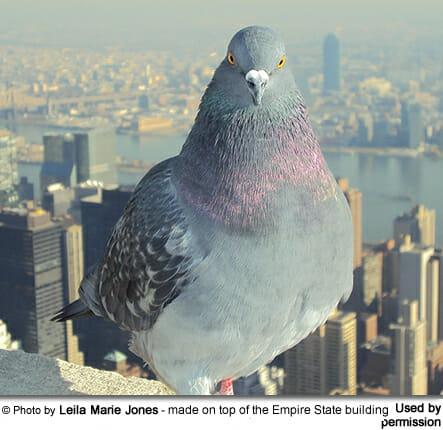Flying Rat: (83, 30, 352, 396)
